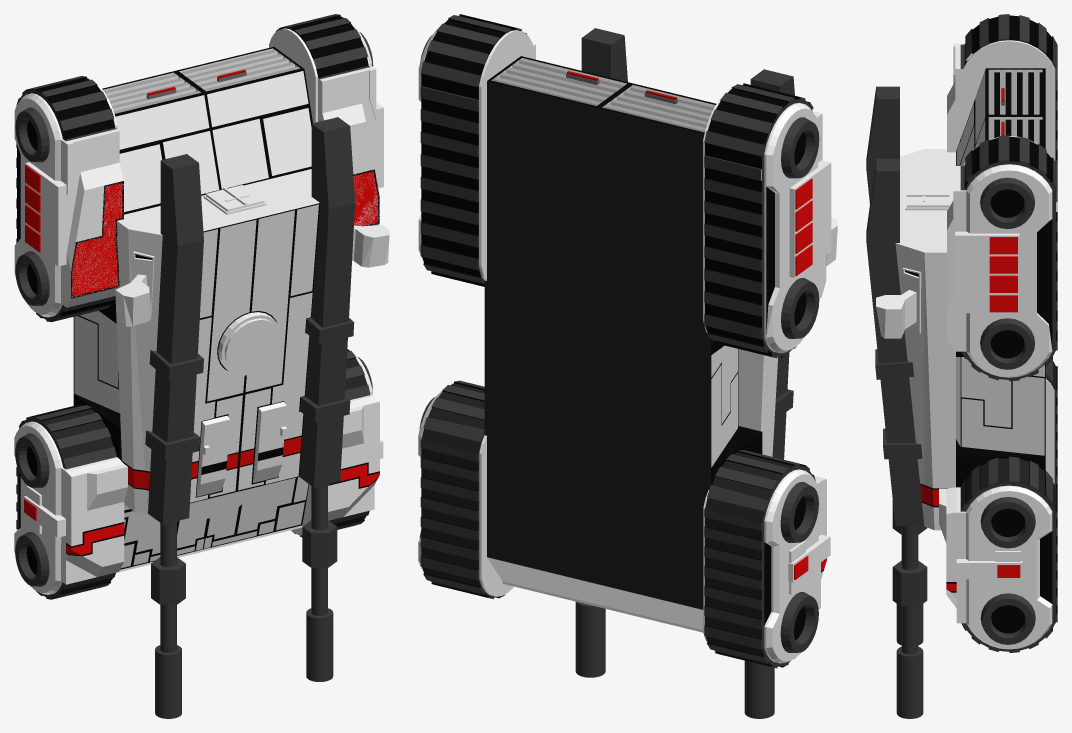
The picture shows the model from 3 angles, left to right: view 1: azimuth 30°, elevation 25°; view 2: azimuth 150°, elevation 25°; view 3: azimuth 270°, elevation 25°; orthographic projection. The views are drawn at different scales.
Visible parts, largest first — view 1: mammoth tank; view 2: mammoth tank; view 3: mammoth tank.
Part boxes in pixels (x1,y1,x2,y2): mammoth tank: [14, 14, 389, 718]; mammoth tank: [418, 14, 837, 718]; mammoth tank: [866, 14, 1057, 718].
Size of the model in its own units: 754 by 1309 by 384.
